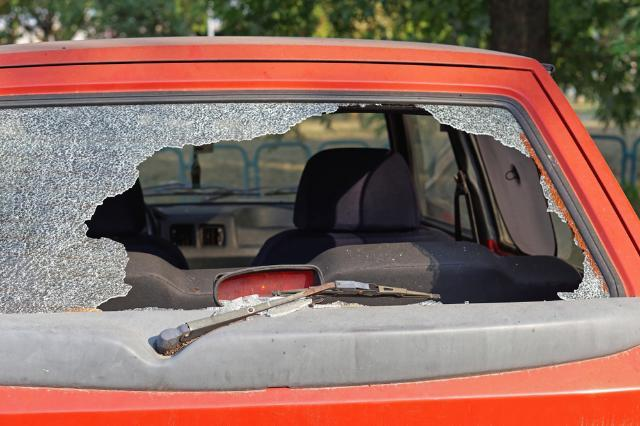glass shatter: (0, 101, 610, 315)
